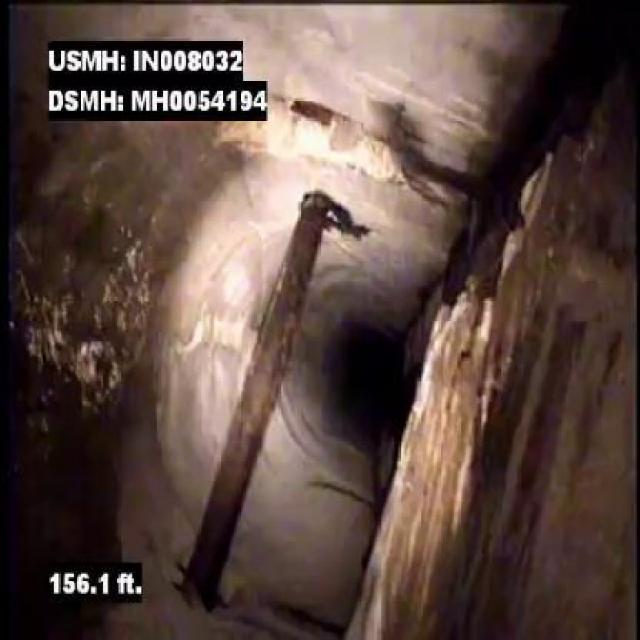Utility intrusion: (177, 189, 331, 611)
